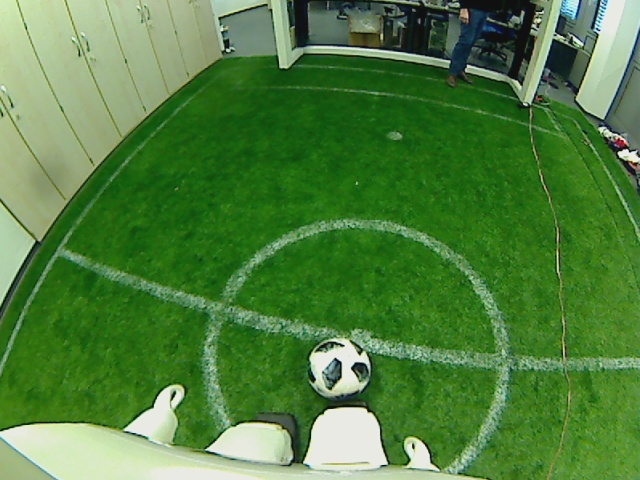ball: (305, 337, 374, 400)
